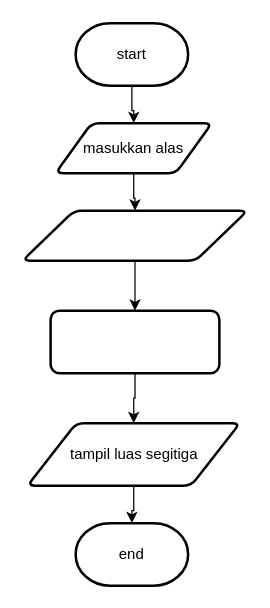
The diagram is 270 pixels wide and 608 high, and some of its shapes have lost their labels. The box of each missing label's shape, as (x1, y1, x2, y2) in pixels:
luas=1/2*(alas*tinggi): (49, 309, 220, 374)
masukkan tinggi: (21, 209, 248, 261)
